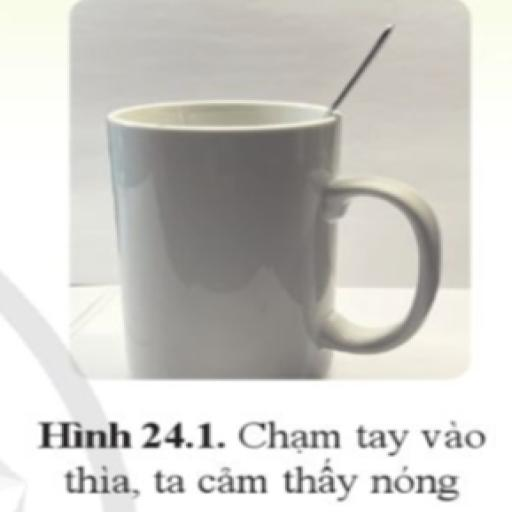cup: (108, 102, 438, 378)
